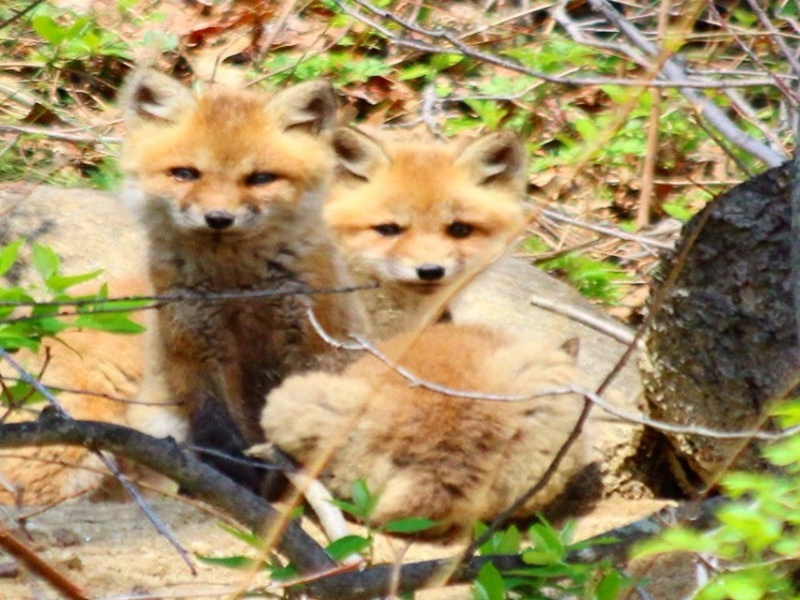fox: (253, 123, 663, 530), (121, 69, 371, 480)
